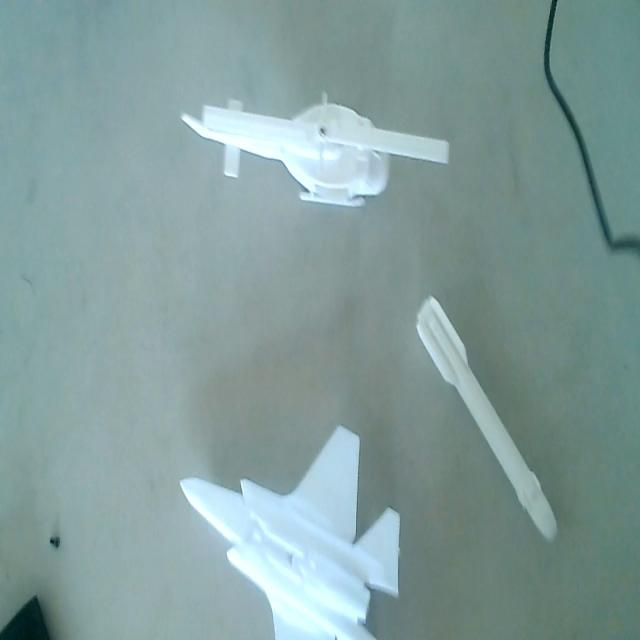Helicopter: (177, 85, 453, 214)
Jet: (178, 419, 404, 640)
Rocket: (415, 288, 563, 550)
